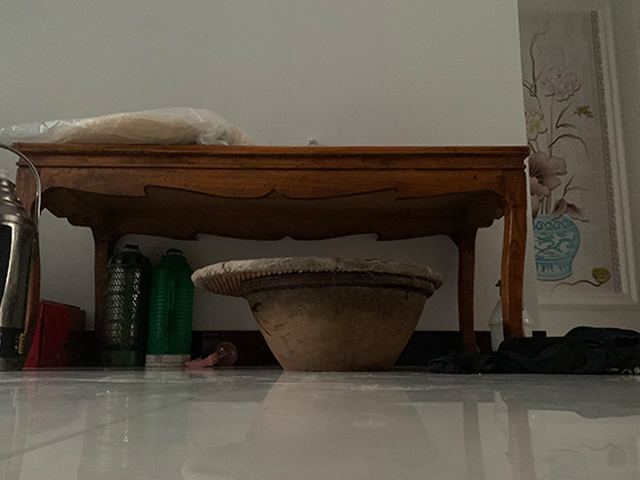table: (11, 141, 531, 370)
